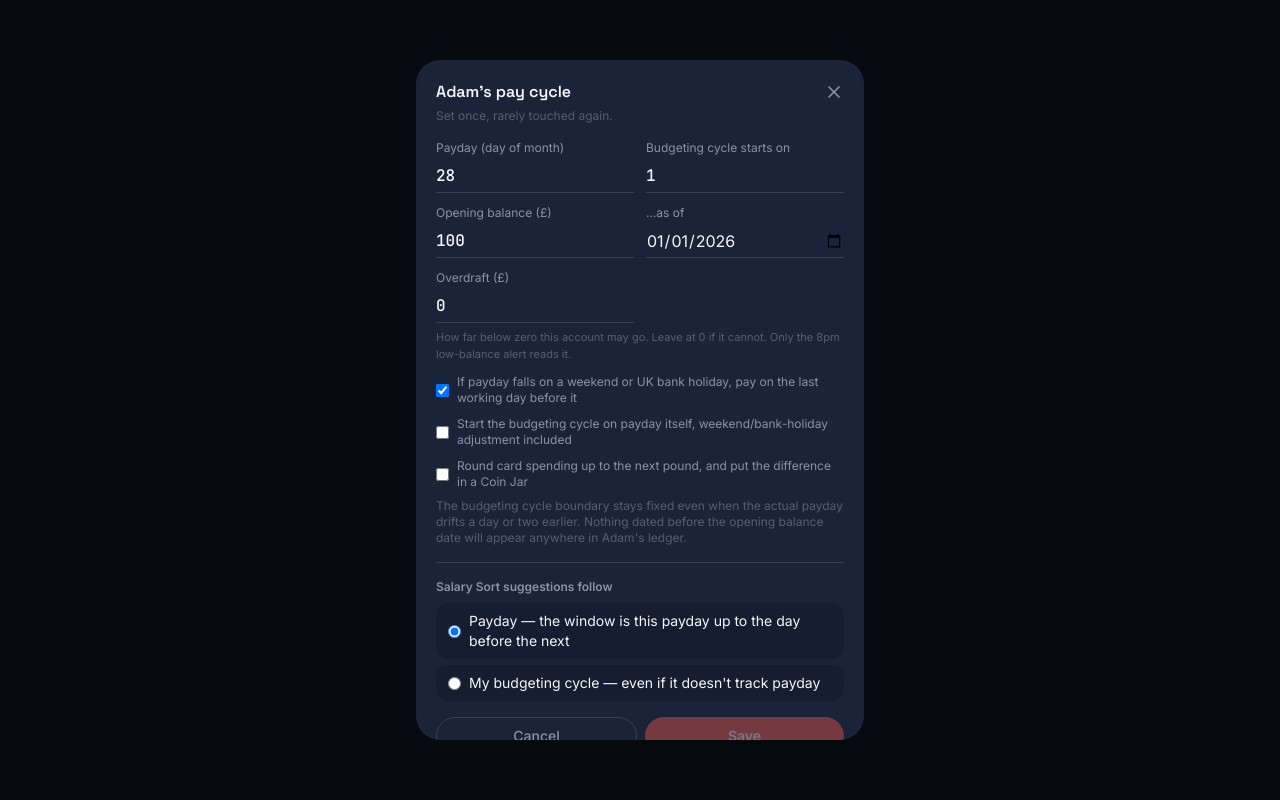
Scenario: the pay-cycle cog › 🚨 typing an overdraft enables Save
The image size is (1280, 800).
Expected: the button "Save" is disabled, [645,717,844,740]
In the number field labelled "Overdraft (£)": (535, 306) [436,290,634,323], type "500"
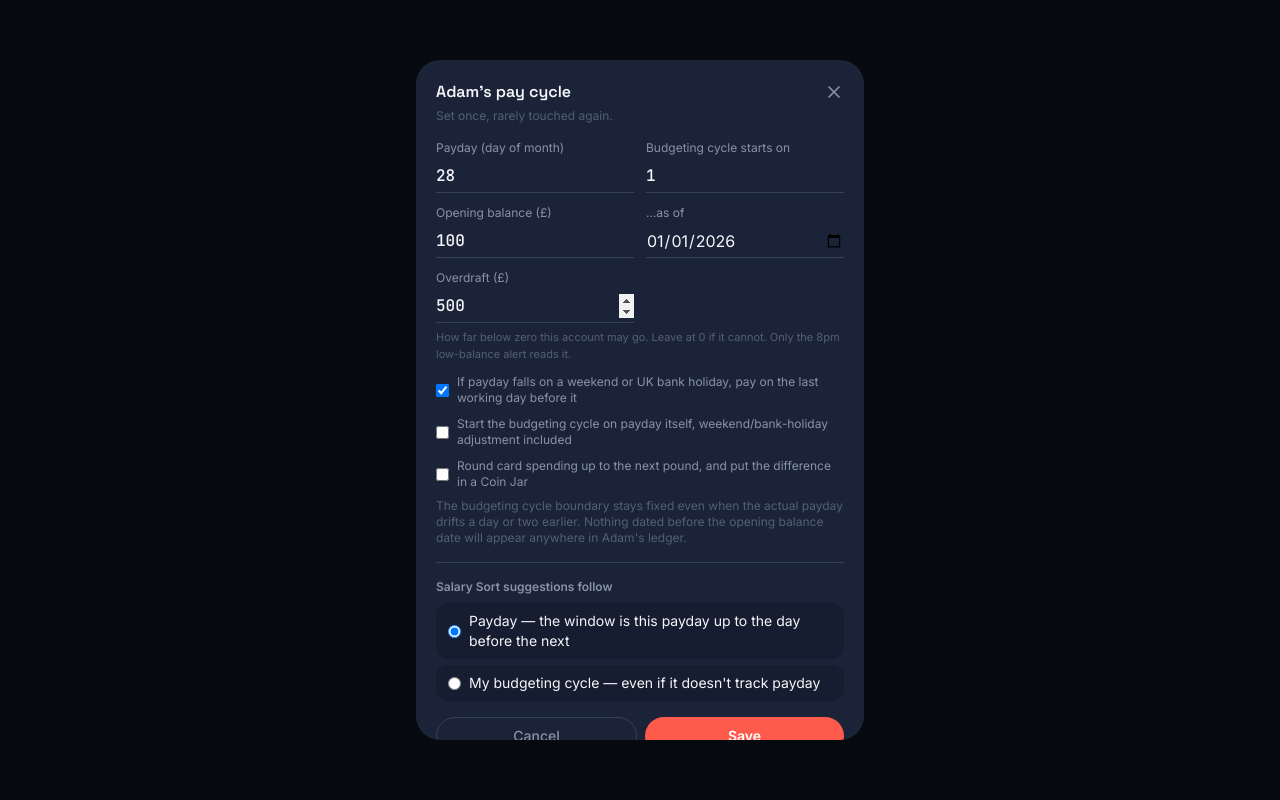
Expected: the button "Save" is enabled, [645,717,844,740]
